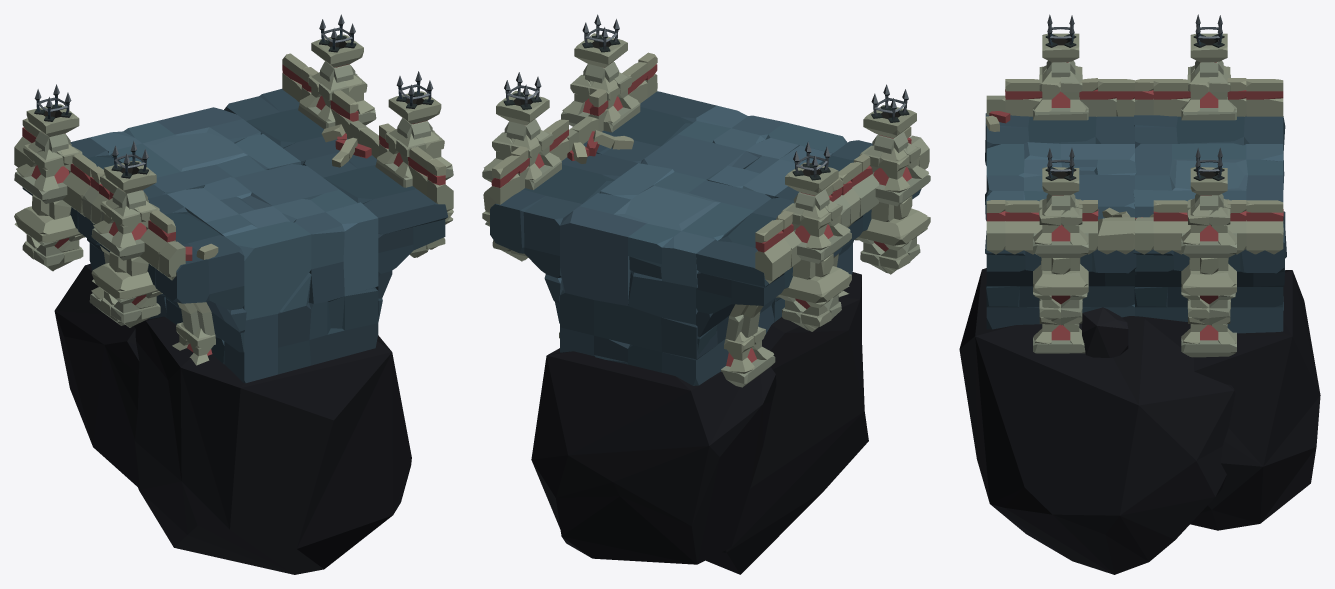
File: hallway_I_02.fbx
3 views of the same model, side by side, from view 1: azimuth 30°, elevation 25°; view 2: azimuth 150°, elevation 25°; view 3: azimuth 270°, elevation 25° (orthographic). The views are drawn at different scales.
Parts seen in each view (by area): view 1: hallway_I_02; view 2: hallway_I_02; view 3: hallway_I_02.
Boxes of the visible parts, box(x1,y1,x2,y2) form: hallway_I_02: box(14, 14, 453, 574); hallway_I_02: box(482, 14, 930, 574); hallway_I_02: box(959, 14, 1320, 574).
Size of the model in its own units: 1000 by 1374 by 974.
